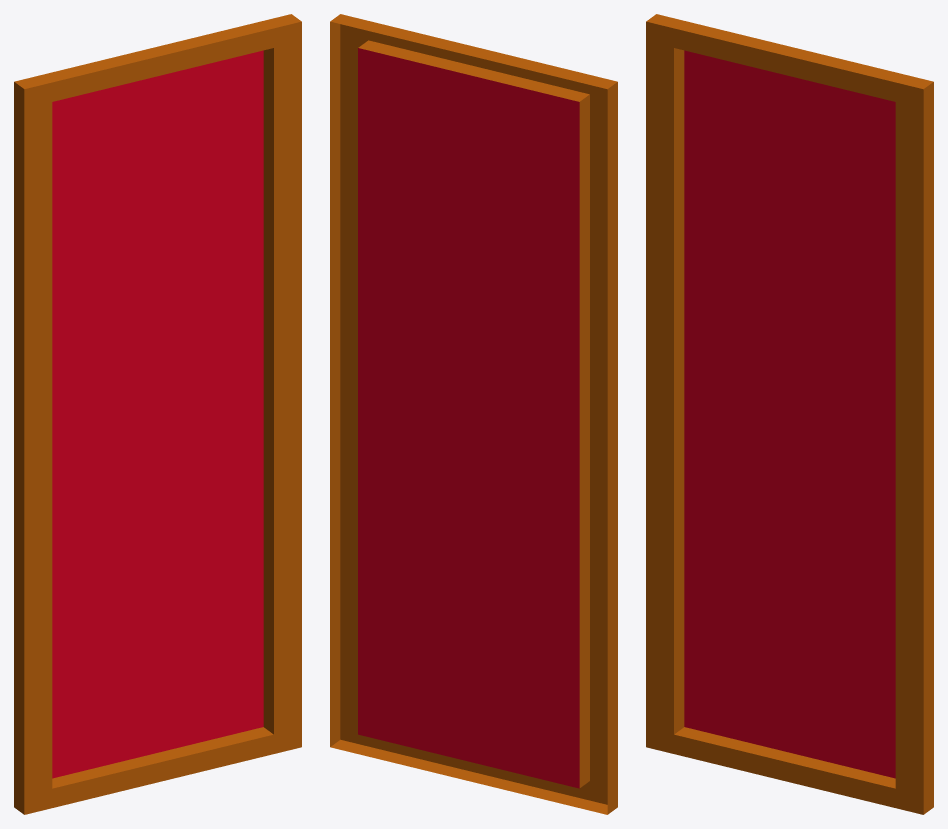
Rendered from PosterA_001.fbx.
3 renders of one model, left to right at view 1: azimuth 30°, elevation 25°; view 2: azimuth 150°, elevation 25°; view 3: azimuth 330°, elevation 25°, orthographic.
Visible parts, largest first — view 1: PosterA_001; view 2: PosterA_001; view 3: PosterA_001.
Part boxes in pixels (bbox=[...]): PosterA_001: bbox=[14, 14, 301, 814]; PosterA_001: bbox=[330, 14, 617, 814]; PosterA_001: bbox=[646, 14, 933, 814].
Bounding box in the file's own units: 108 × 270 × 7.
